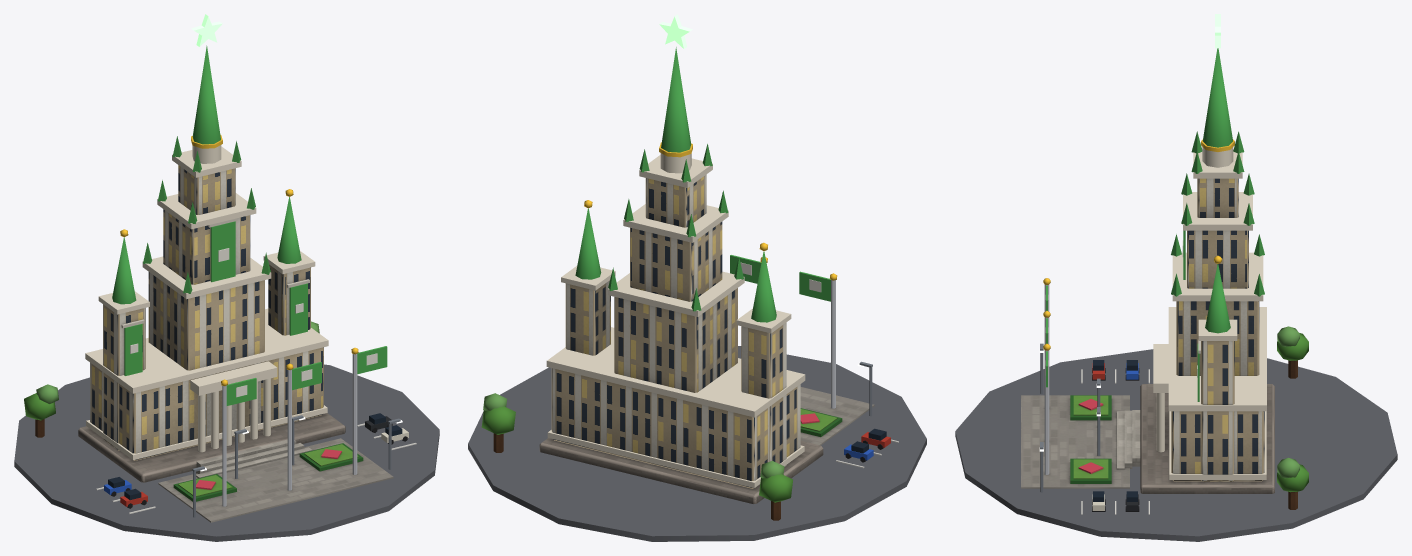
The model's file is residence_dl6_green.glb.
3 views of the same model, side by side, from view 1: azimuth 30°, elevation 25°; view 2: azimuth 150°, elevation 25°; view 3: azimuth 270°, elevation 25° (orthographic). The views are drawn at different scales.
Parts seen in each view (by area): view 1: residence_dl6_green; view 2: residence_dl6_green; view 3: residence_dl6_green.
Boxes of the visible parts, box(x1,y1,x2,y2) form: residence_dl6_green: box(14, 14, 439, 541); residence_dl6_green: box(468, 14, 926, 541); residence_dl6_green: box(955, 14, 1397, 541).
Bounding box in the file's own units: 1.71 × 1.85 × 1.71.
3 materials, 1 textured.
